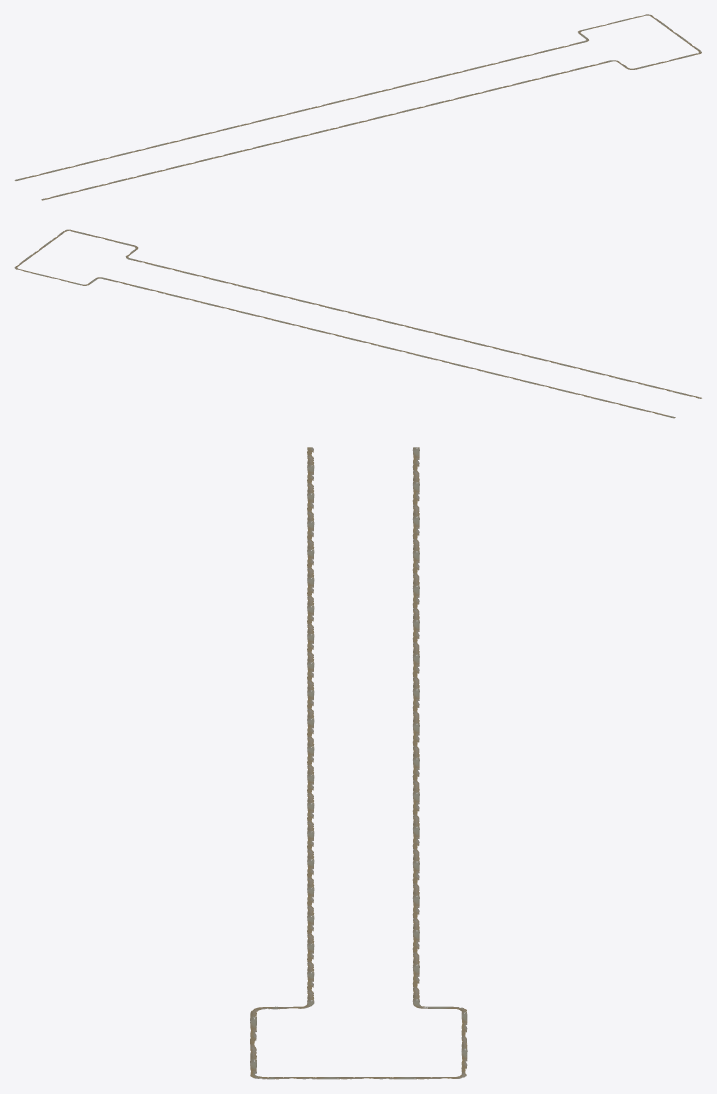
File: whiteline_02.fbx
The picture shows the model from 3 angles, top to bottom: view 1: azimuth 30°, elevation 25°; view 2: azimuth 150°, elevation 25°; view 3: azimuth 270°, elevation 25°; orthographic projection. The views are drawn at different scales.
Parts seen in each view (by area): view 1: whiteline_02; view 2: whiteline_02; view 3: whiteline_02.
Boxes of the visible parts, x1=… form: whiteline_02: x1=14, y1=14, x2=701, y2=200; whiteline_02: x1=14, y1=229, x2=701, y2=418; whiteline_02: x1=250, y1=447, x2=467, y2=1079.
Bounding box in the file's own units: 10947 × 0.000361 × 1607.
1 material, 1 textured.
